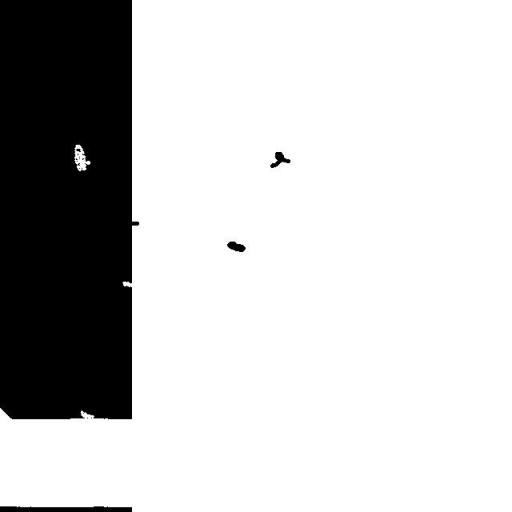copper: (262, 144, 298, 175), (219, 234, 253, 259)
mousebite: (73, 402, 102, 428), (114, 274, 142, 294)
pin-hole: (66, 137, 98, 178)
spur: (122, 214, 146, 232)
